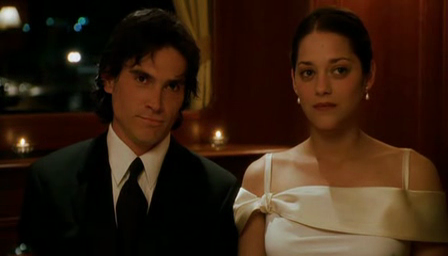face: (122, 60, 187, 145), (295, 49, 357, 129)
mcu: (1, 1, 448, 256)
person: (12, 9, 241, 256), (232, 7, 448, 256)
